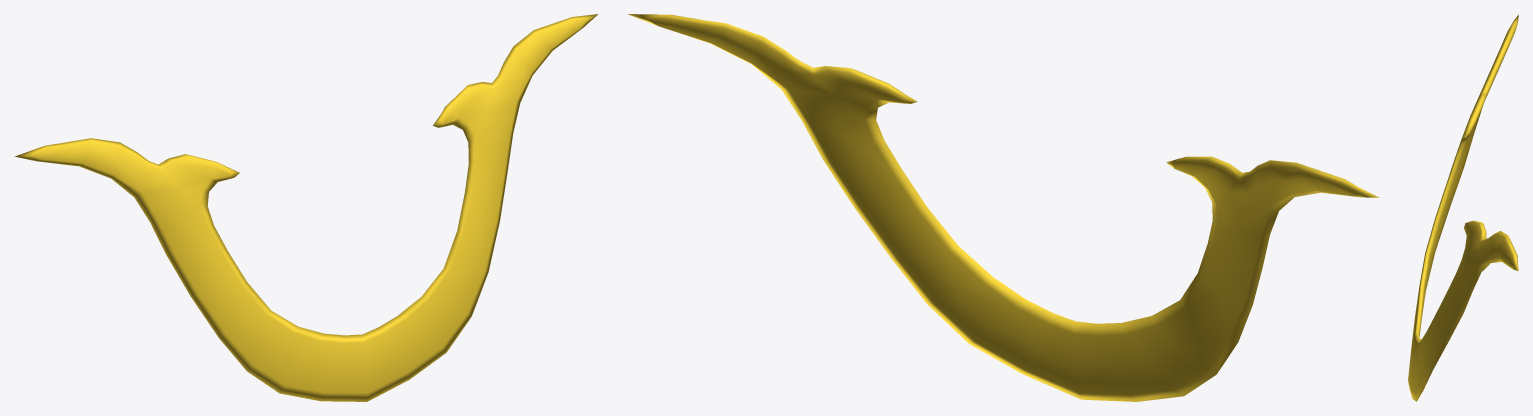
File: pendant.fbx
The picture shows the model from 3 angles, left to right: view 1: azimuth 30°, elevation 25°; view 2: azimuth 150°, elevation 25°; view 3: azimuth 270°, elevation 25°; orthographic projection. The views are drawn at different scales.
Visible parts, largest first — view 1: Cube.014; view 2: Cube.014; view 3: Cube.014.
Boxes of the visible parts, <box> form: Cube.014: <box>15,14,597,401</box>; Cube.014: <box>627,14,1379,401</box>; Cube.014: <box>1408,14,1518,401</box>.
Size of the model in its own units: 580 by 264 by 106.
